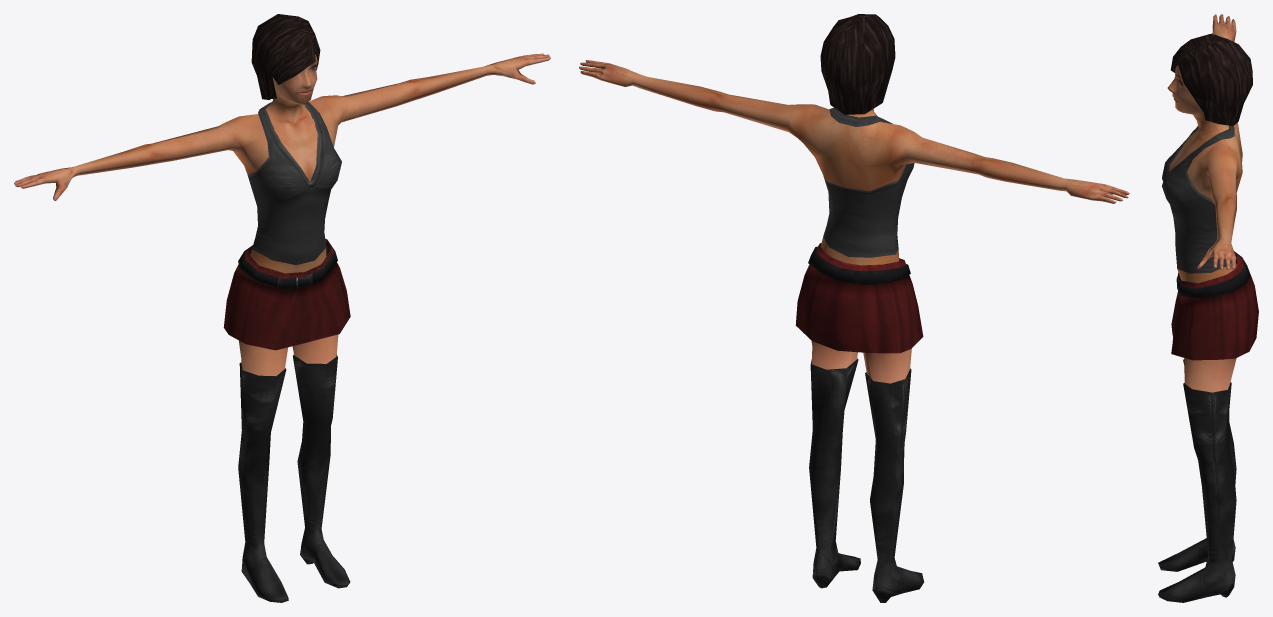
The model's file is hostage.fbx.
The picture shows the model from 3 angles, left to right: view 1: azimuth 30°, elevation 25°; view 2: azimuth 150°, elevation 25°; view 3: azimuth 270°, elevation 25°; orthographic projection. The views are drawn at different scales.
Visible parts, largest first — view 1: Geo_Low; view 2: Geo_Low; view 3: Geo_Low.
Part boxes in pixels (bbox=[...]): Geo_Low: bbox=[14, 14, 550, 602]; Geo_Low: bbox=[579, 14, 1129, 602]; Geo_Low: bbox=[1158, 14, 1258, 602].
Size of the model in its own units: 17955 by 17952 by 3013.
